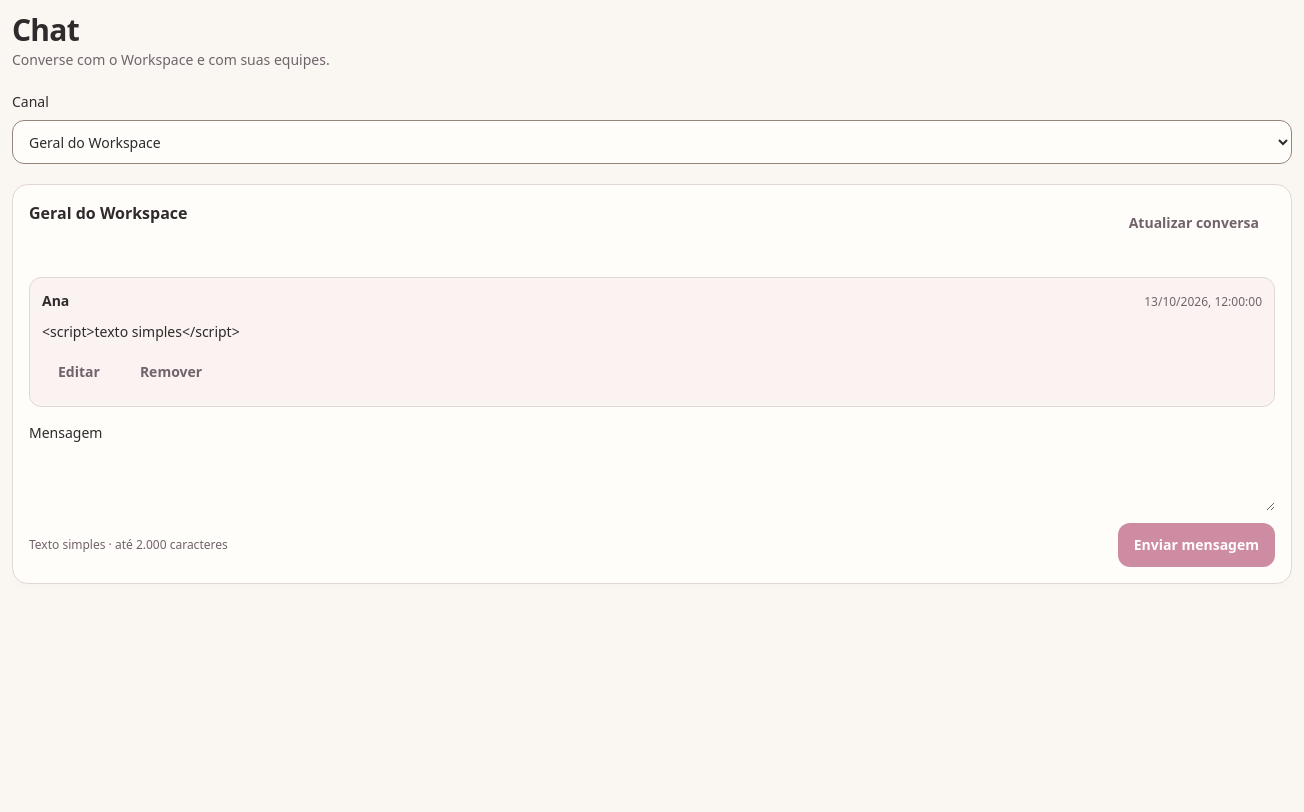
Test case: remoção confirmada oculta texto preservando histórico
The width and height of the screenshot is (1304, 812).
Click the button with aria-label "Remover mensagem de Ana": click(171, 372) [124,350,218,394]
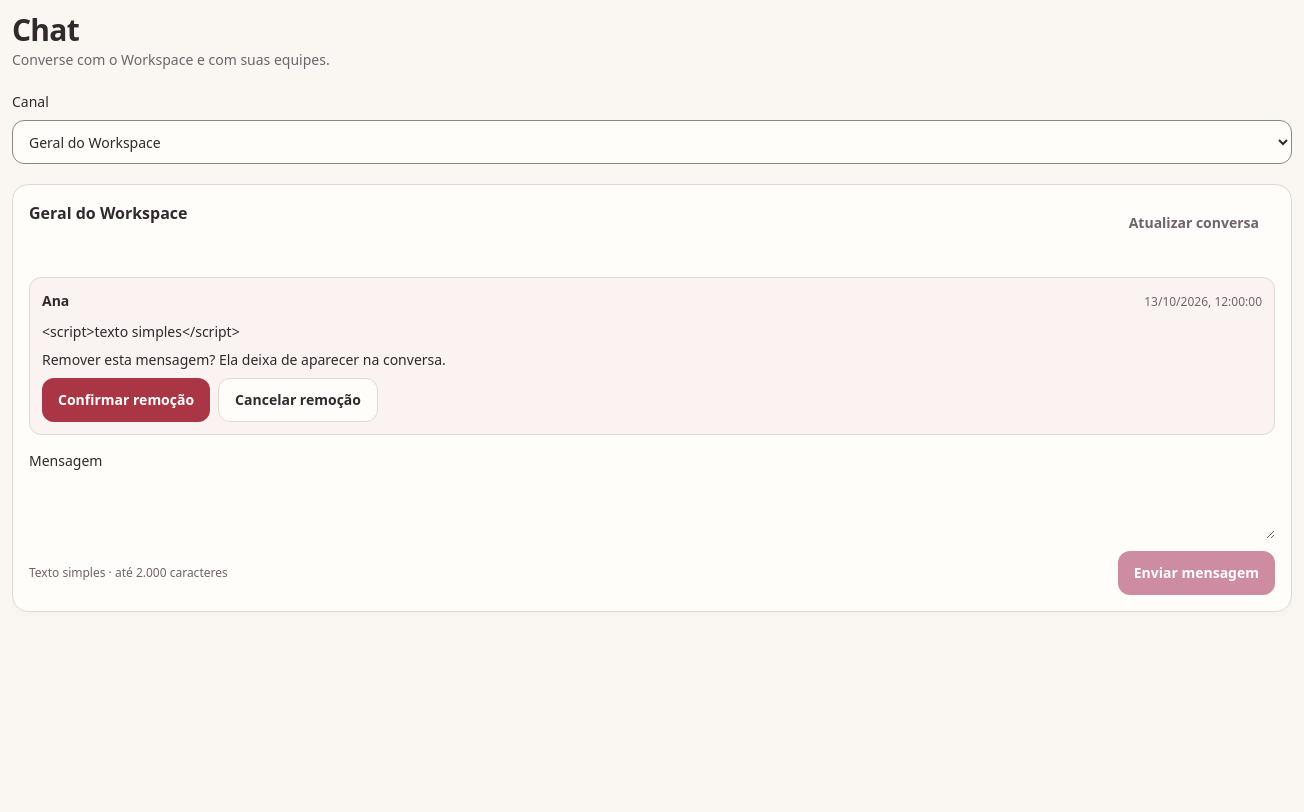
Click the button "Confirmar remoção": click(126, 400) [42,378,210,422]
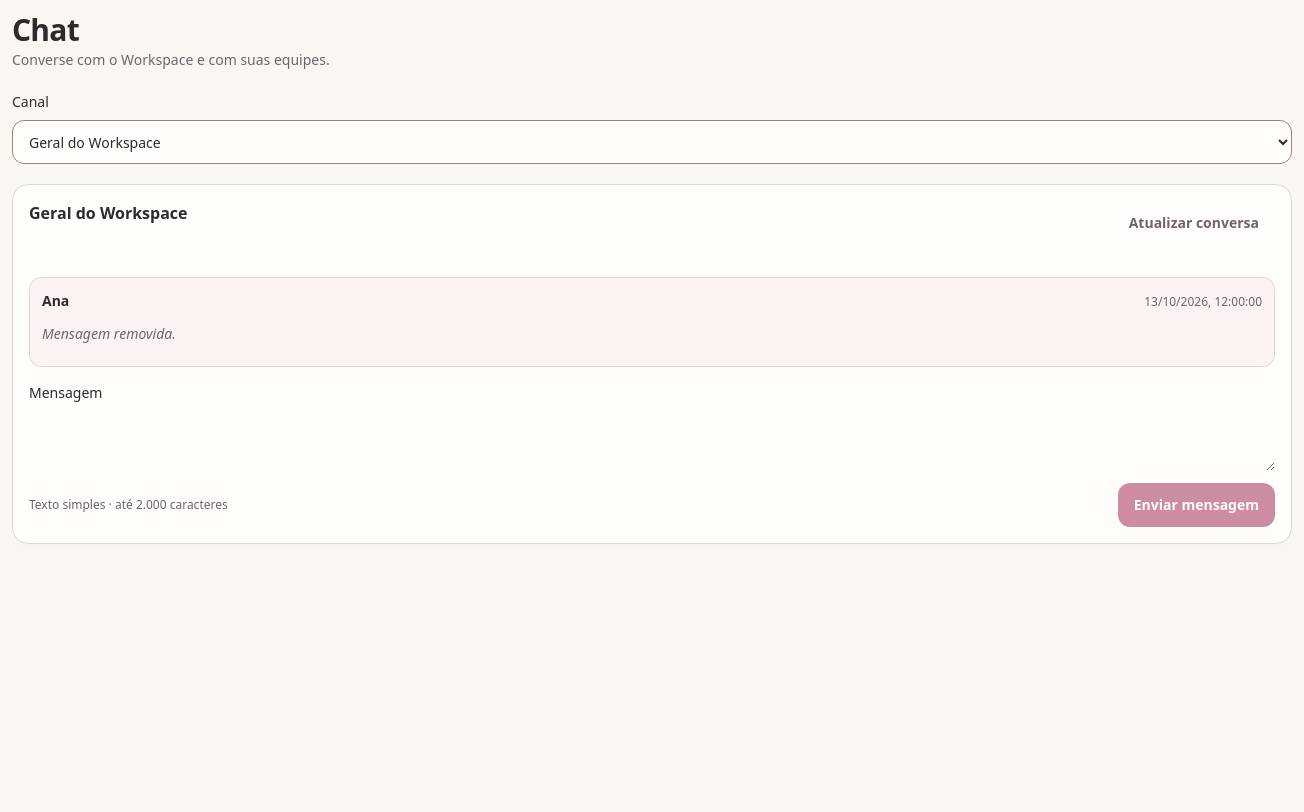
Check: the text "Mensagem removida." is shown, box [42,324,176,343]
Check: the text "<script>texto simples</script>" is gone
